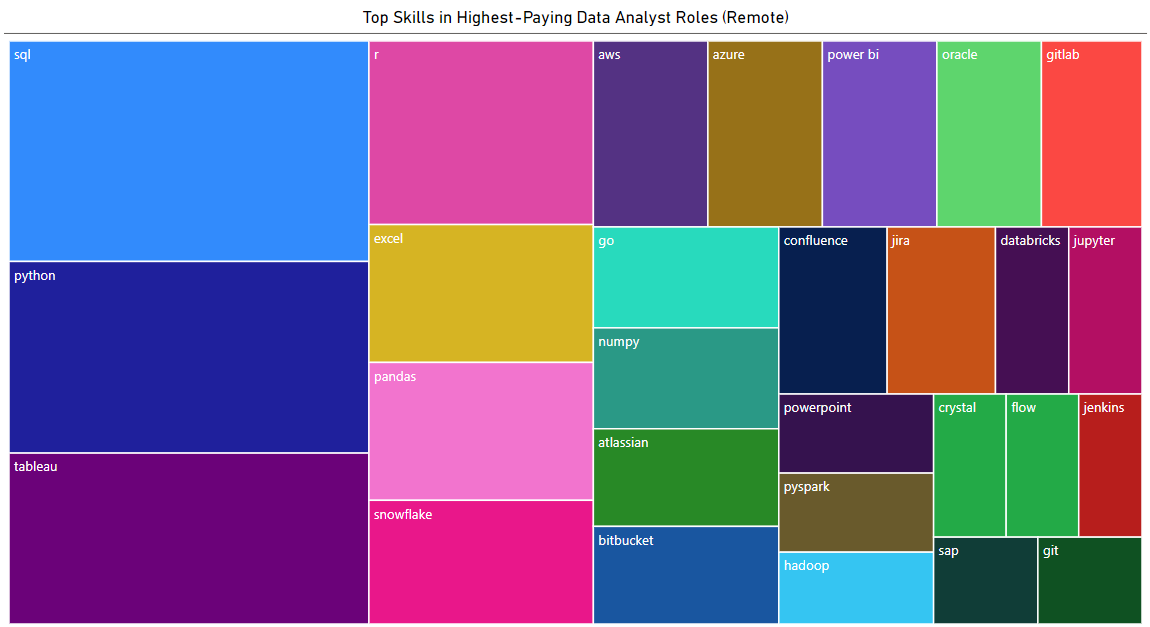

This screenshot's page, from the dashboard's own definition file:
{"tool":"powerbi","page":{"name":"Page 5","canvas":[1280,720],"ordinal":4},"visuals":[{"type":"treemap","title":"Top Skills in Highest-Paying Data Analyst Roles (Remote)","fields":{"Group":["top_paying_job_skills_remote_LA.skills"],"Values":["Sum(top_paying_job_skills_remote_LA.salary_year_avg)"]},"box":[73.1,62.1,1144.8,622],"z":0}]}

Visuals, with their boxes on the page's 1280x720 design canvas (x1, y1, x2, y2). These are canvas units, not pixel positions in the 1150x627 screenshot, which may show the page scaled, cropped or inside an application window:
"Top Skills in Highest-Paying Data Analyst Roles (Remote)" treemap: box=[73, 62, 1218, 684]
